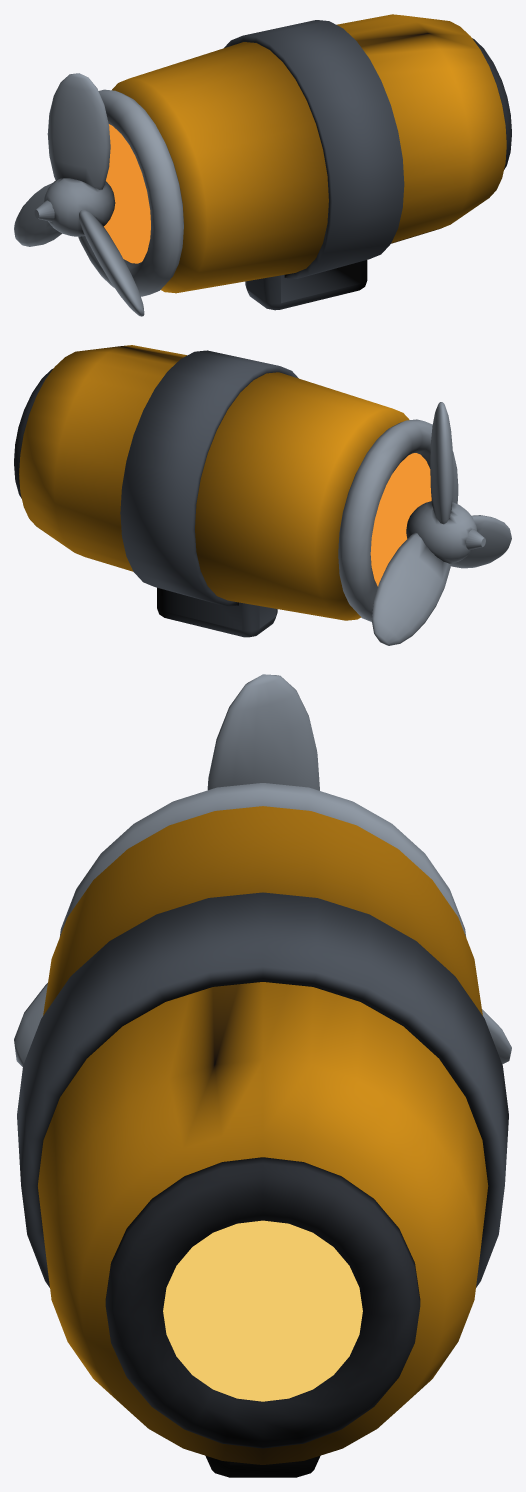
The model's file is part_thruster.glb.
The picture shows the model from 3 angles, top to bottom: view 1: azimuth 30°, elevation 25°; view 2: azimuth 150°, elevation 25°; view 3: azimuth 270°, elevation 25°; orthographic projection. The views are drawn at different scales.
Parts seen in each view (by area): view 1: thruster_body, thruster_prop; view 2: thruster_body, thruster_prop; view 3: thruster_body, thruster_prop.
Boxes of the visible parts, <box> form: thruster_body: <box>78,14,511,310</box>; thruster_prop: <box>14,73,144,316</box>; thruster_body: <box>14,345,458,637</box>; thruster_prop: <box>371,402,511,645</box>; thruster_body: <box>17,783,508,1477</box>; thruster_prop: <box>14,674,511,1066</box>.
Size of the model in its own units: 1.2 by 0.721 by 0.597.
